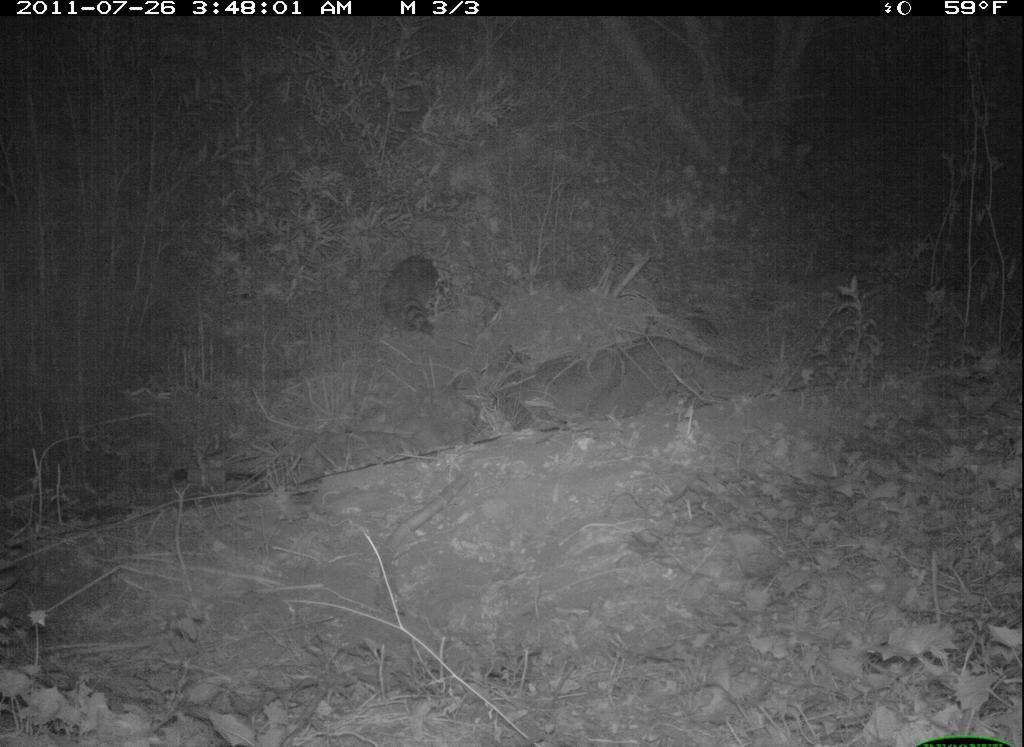raccoon: (365, 244, 457, 354)
